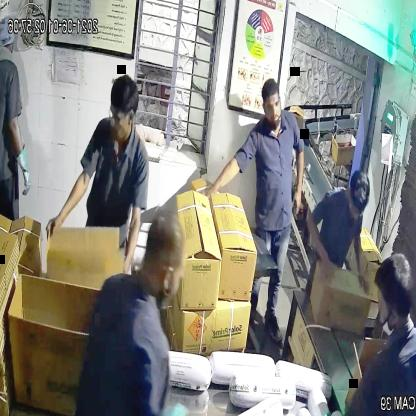no_goggles: (261, 95, 285, 116)
